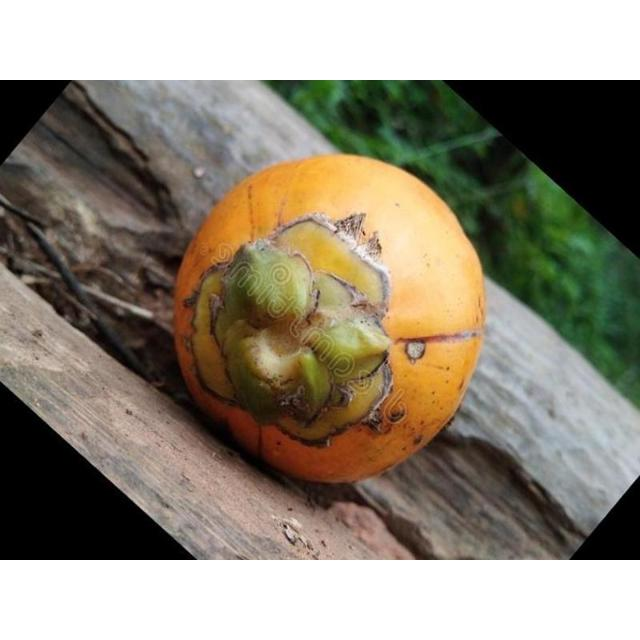good: (170, 154, 487, 488)
